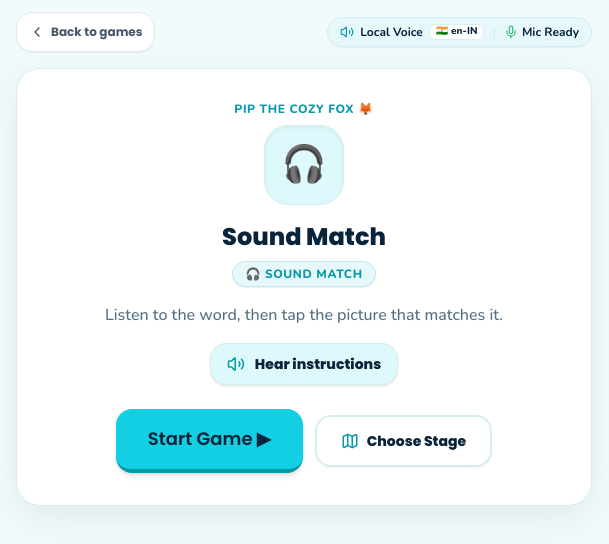
Test case: Sound Match 100-Level Phonics & Stage Progression Suite › 6. Child Engagement, Rewards & 100-Level Progression Suite › 6.1 Renders rich in-game adventure header with stage badge, level badge, and stage progress beads
The image size is (609, 544).
Click the button with test id "start-game-button" at (209, 441), box [116, 409, 303, 473]
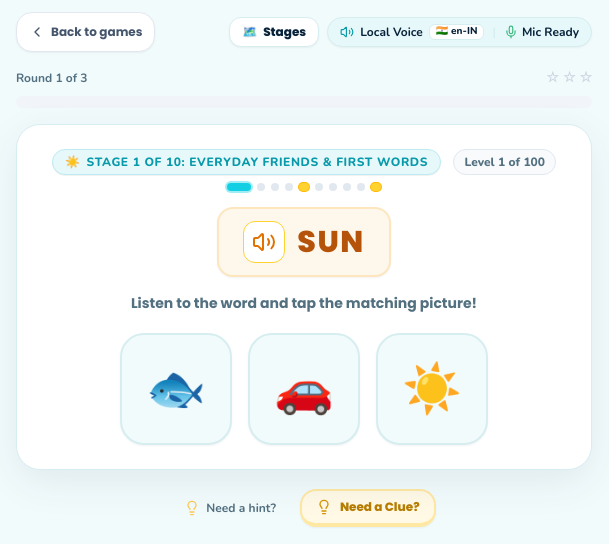
Now the element with test id "sound-match-stage-badge" shows "Stage 1 of 10", box [52, 149, 441, 175]
Now the element with test id "sound-match-stage-badge" shows "Everyday Friends", box [189, 154, 428, 170]
Now the text with test id "sound-match-level-badge" reads "Level 1 of 100", box [453, 149, 556, 175]
